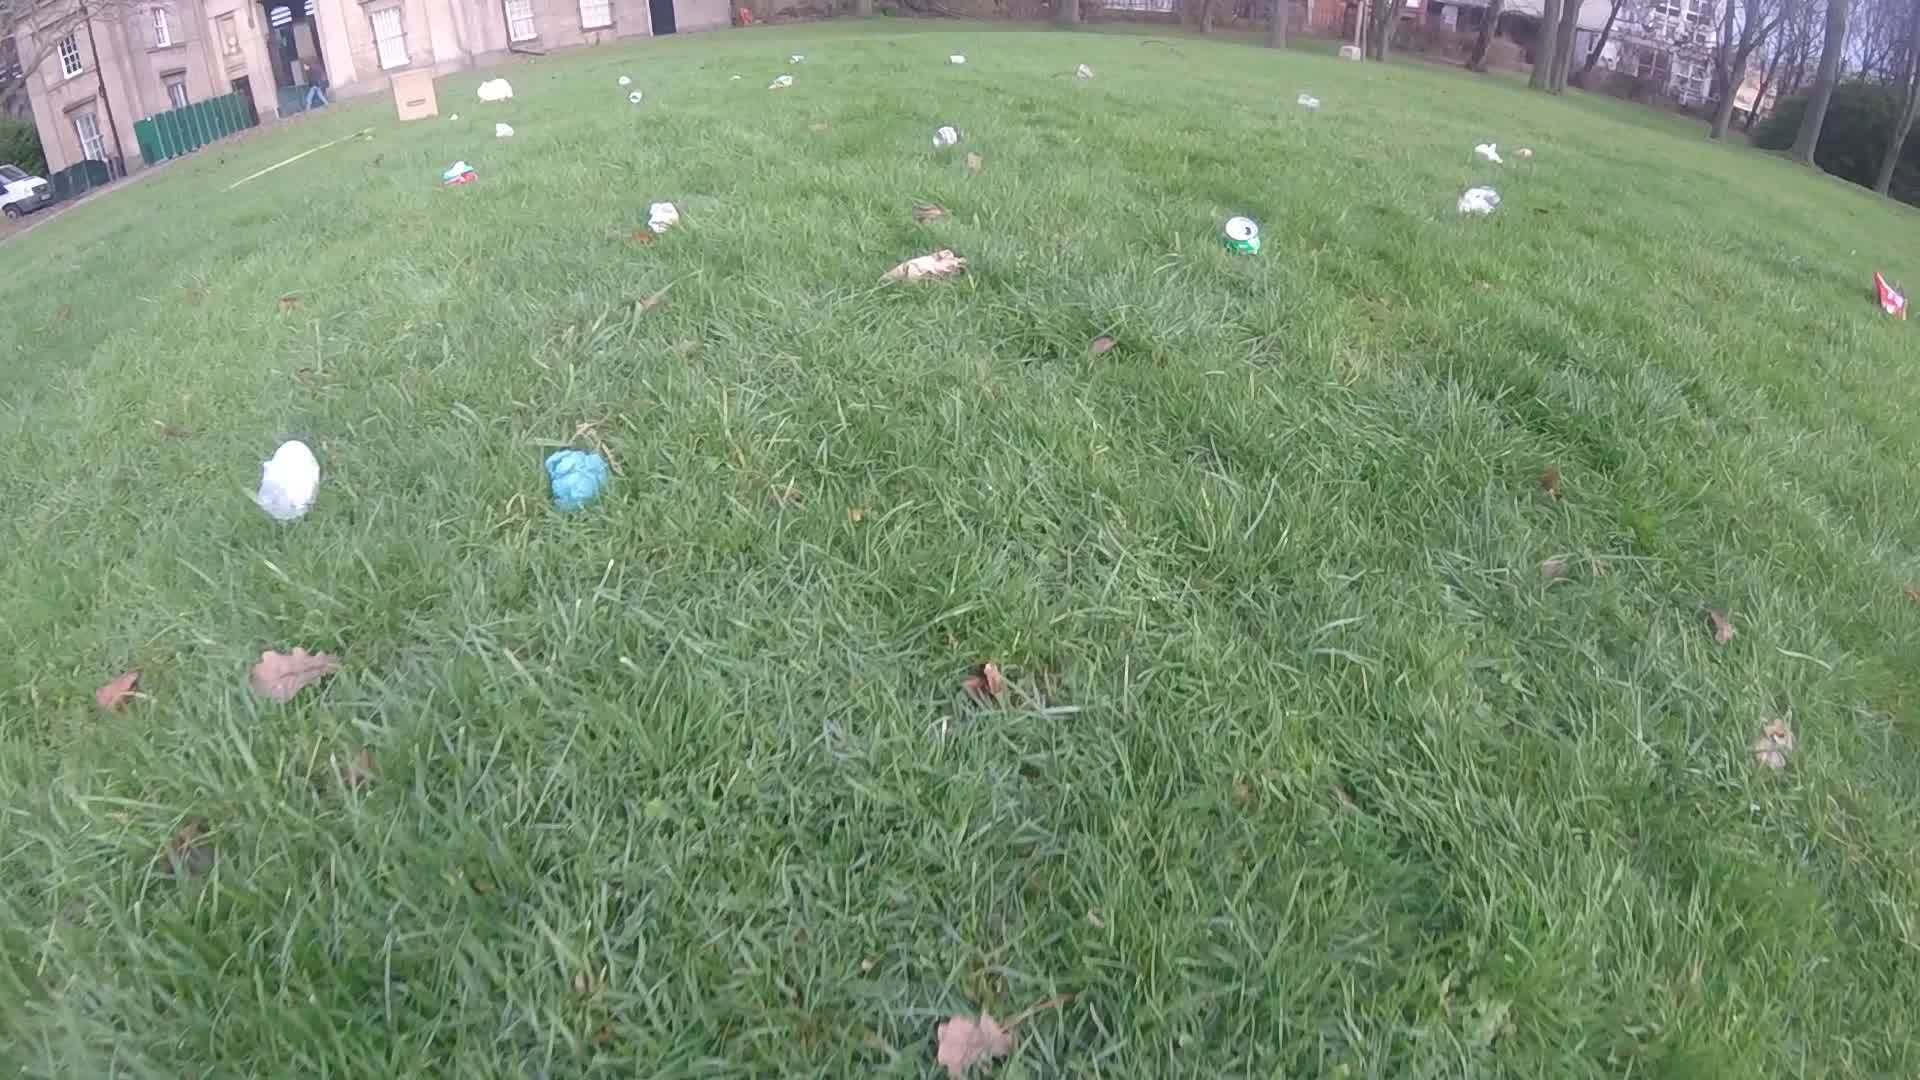litter: (257, 438, 320, 524), (545, 444, 611, 518), (887, 247, 963, 291), (390, 69, 438, 123), (1874, 269, 1913, 320), (1221, 216, 1261, 258), (1460, 185, 1499, 218), (647, 199, 680, 239), (476, 76, 516, 104), (442, 160, 476, 189), (1474, 140, 1505, 165), (1298, 92, 1323, 112), (932, 129, 957, 149), (767, 74, 793, 91), (492, 120, 514, 137), (1075, 63, 1095, 82), (1514, 145, 1534, 158), (629, 90, 645, 104), (617, 73, 632, 87), (444, 112, 462, 123), (789, 54, 806, 63), (952, 54, 965, 66)
